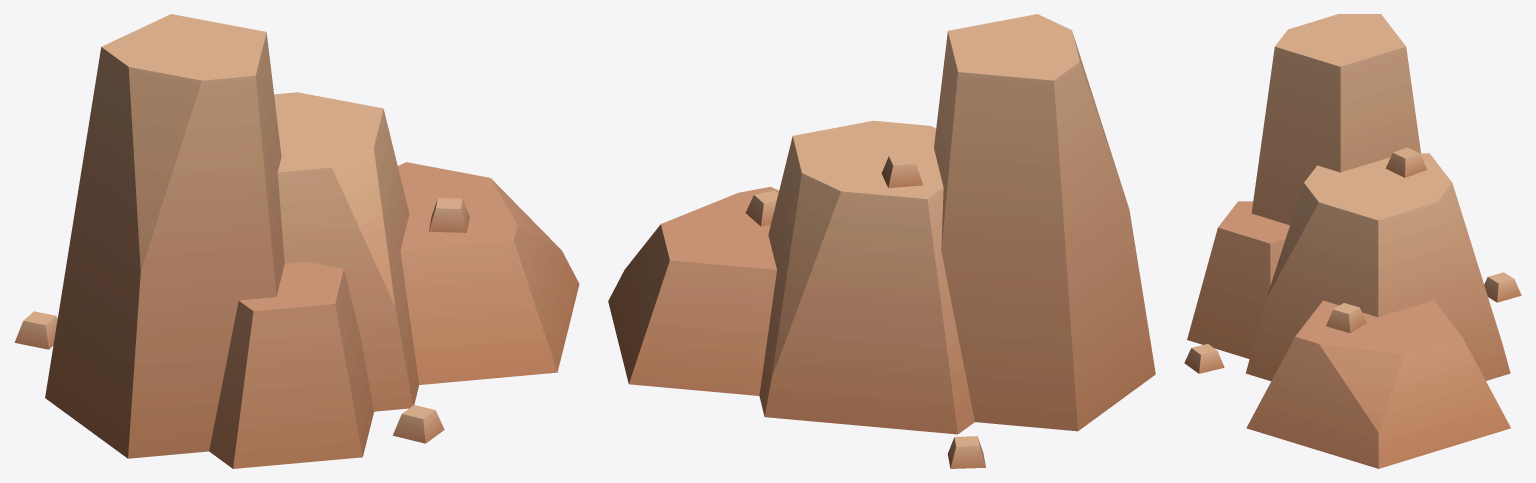
Rendered from rock-sand-c.glb.
3 renders of one model, left to right at view 1: azimuth 30°, elevation 25°; view 2: azimuth 150°, elevation 25°; view 3: azimuth 270°, elevation 25°, orthographic. The views are drawn at different scales.
Parts seen in each view (by area): view 1: rock-sand-c; view 2: rock-sand-c; view 3: rock-sand-c.
Part boxes in pixels (<box>): rock-sand-c: <box>14,14,579,468</box>; rock-sand-c: <box>608,14,1155,468</box>; rock-sand-c: <box>1184,14,1521,468</box>.
Size of the model in its own units: 0.7837 by 0.51 by 0.5691.
1 material, 1 textured.
